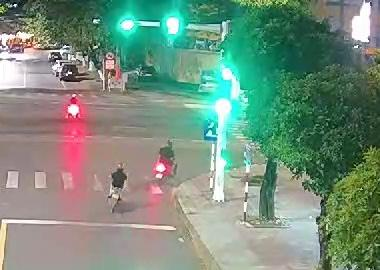green_light: (158, 13, 184, 39), (211, 96, 234, 118), (117, 14, 138, 37)
stop_line: (3, 219, 175, 230)
